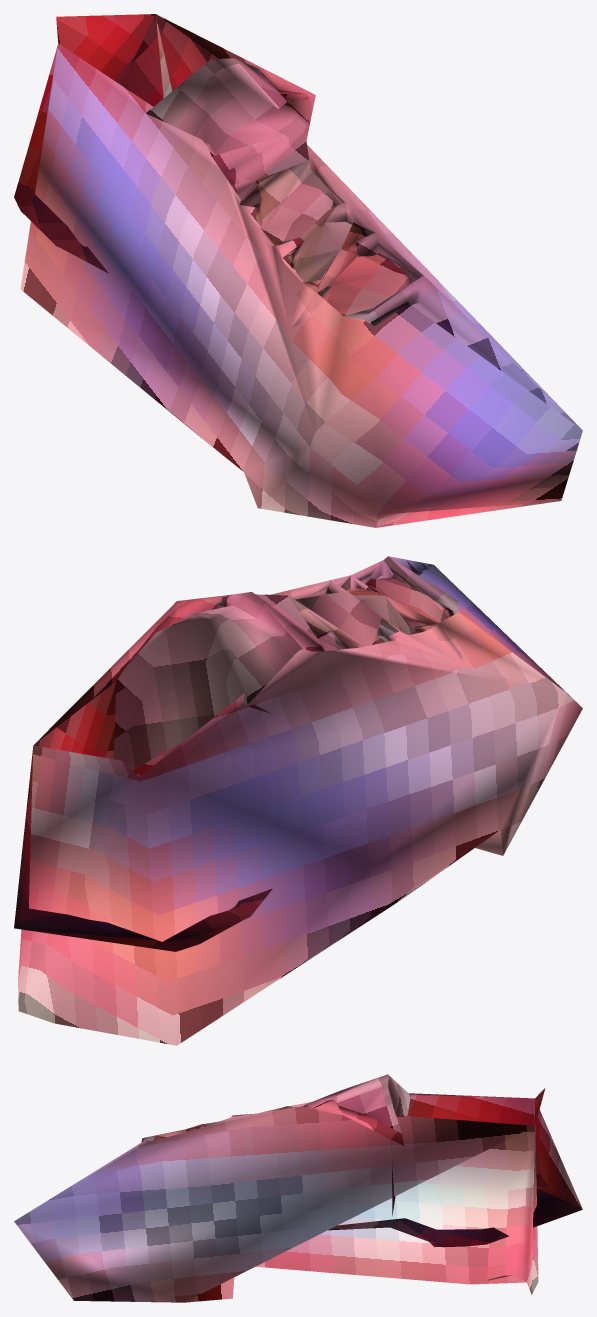
The model's file is F10_TRX_FG_ssscuo9tGxb-low.glb.
3 renders of one model, top to bottom at view 1: azimuth 30°, elevation 25°; view 2: azimuth 150°, elevation 25°; view 3: azimuth 270°, elevation 25°, orthographic. The views are drawn at different scales.
Parts seen in each view (by area): view 1: F10_TRX_FG_ssscuo9tGxb; view 2: F10_TRX_FG_ssscuo9tGxb; view 3: F10_TRX_FG_ssscuo9tGxb.
Part boxes in pixels (x1,y1,x2,y2): F10_TRX_FG_ssscuo9tGxb: [14, 14, 582, 527]; F10_TRX_FG_ssscuo9tGxb: [14, 556, 582, 1045]; F10_TRX_FG_ssscuo9tGxb: [14, 1074, 582, 1302].
Size of the model in its own units: 0.0775 by 0.1018 by 0.26.
1 material, 1 textured.
